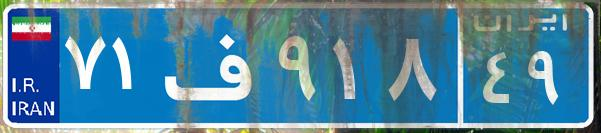1: (330, 28, 385, 110), (110, 28, 158, 105)
4: (475, 38, 525, 113)
7: (57, 26, 110, 107)
8: (385, 28, 445, 110)
9: (273, 28, 330, 110), (525, 38, 570, 115)
ف: (158, 15, 273, 115)
